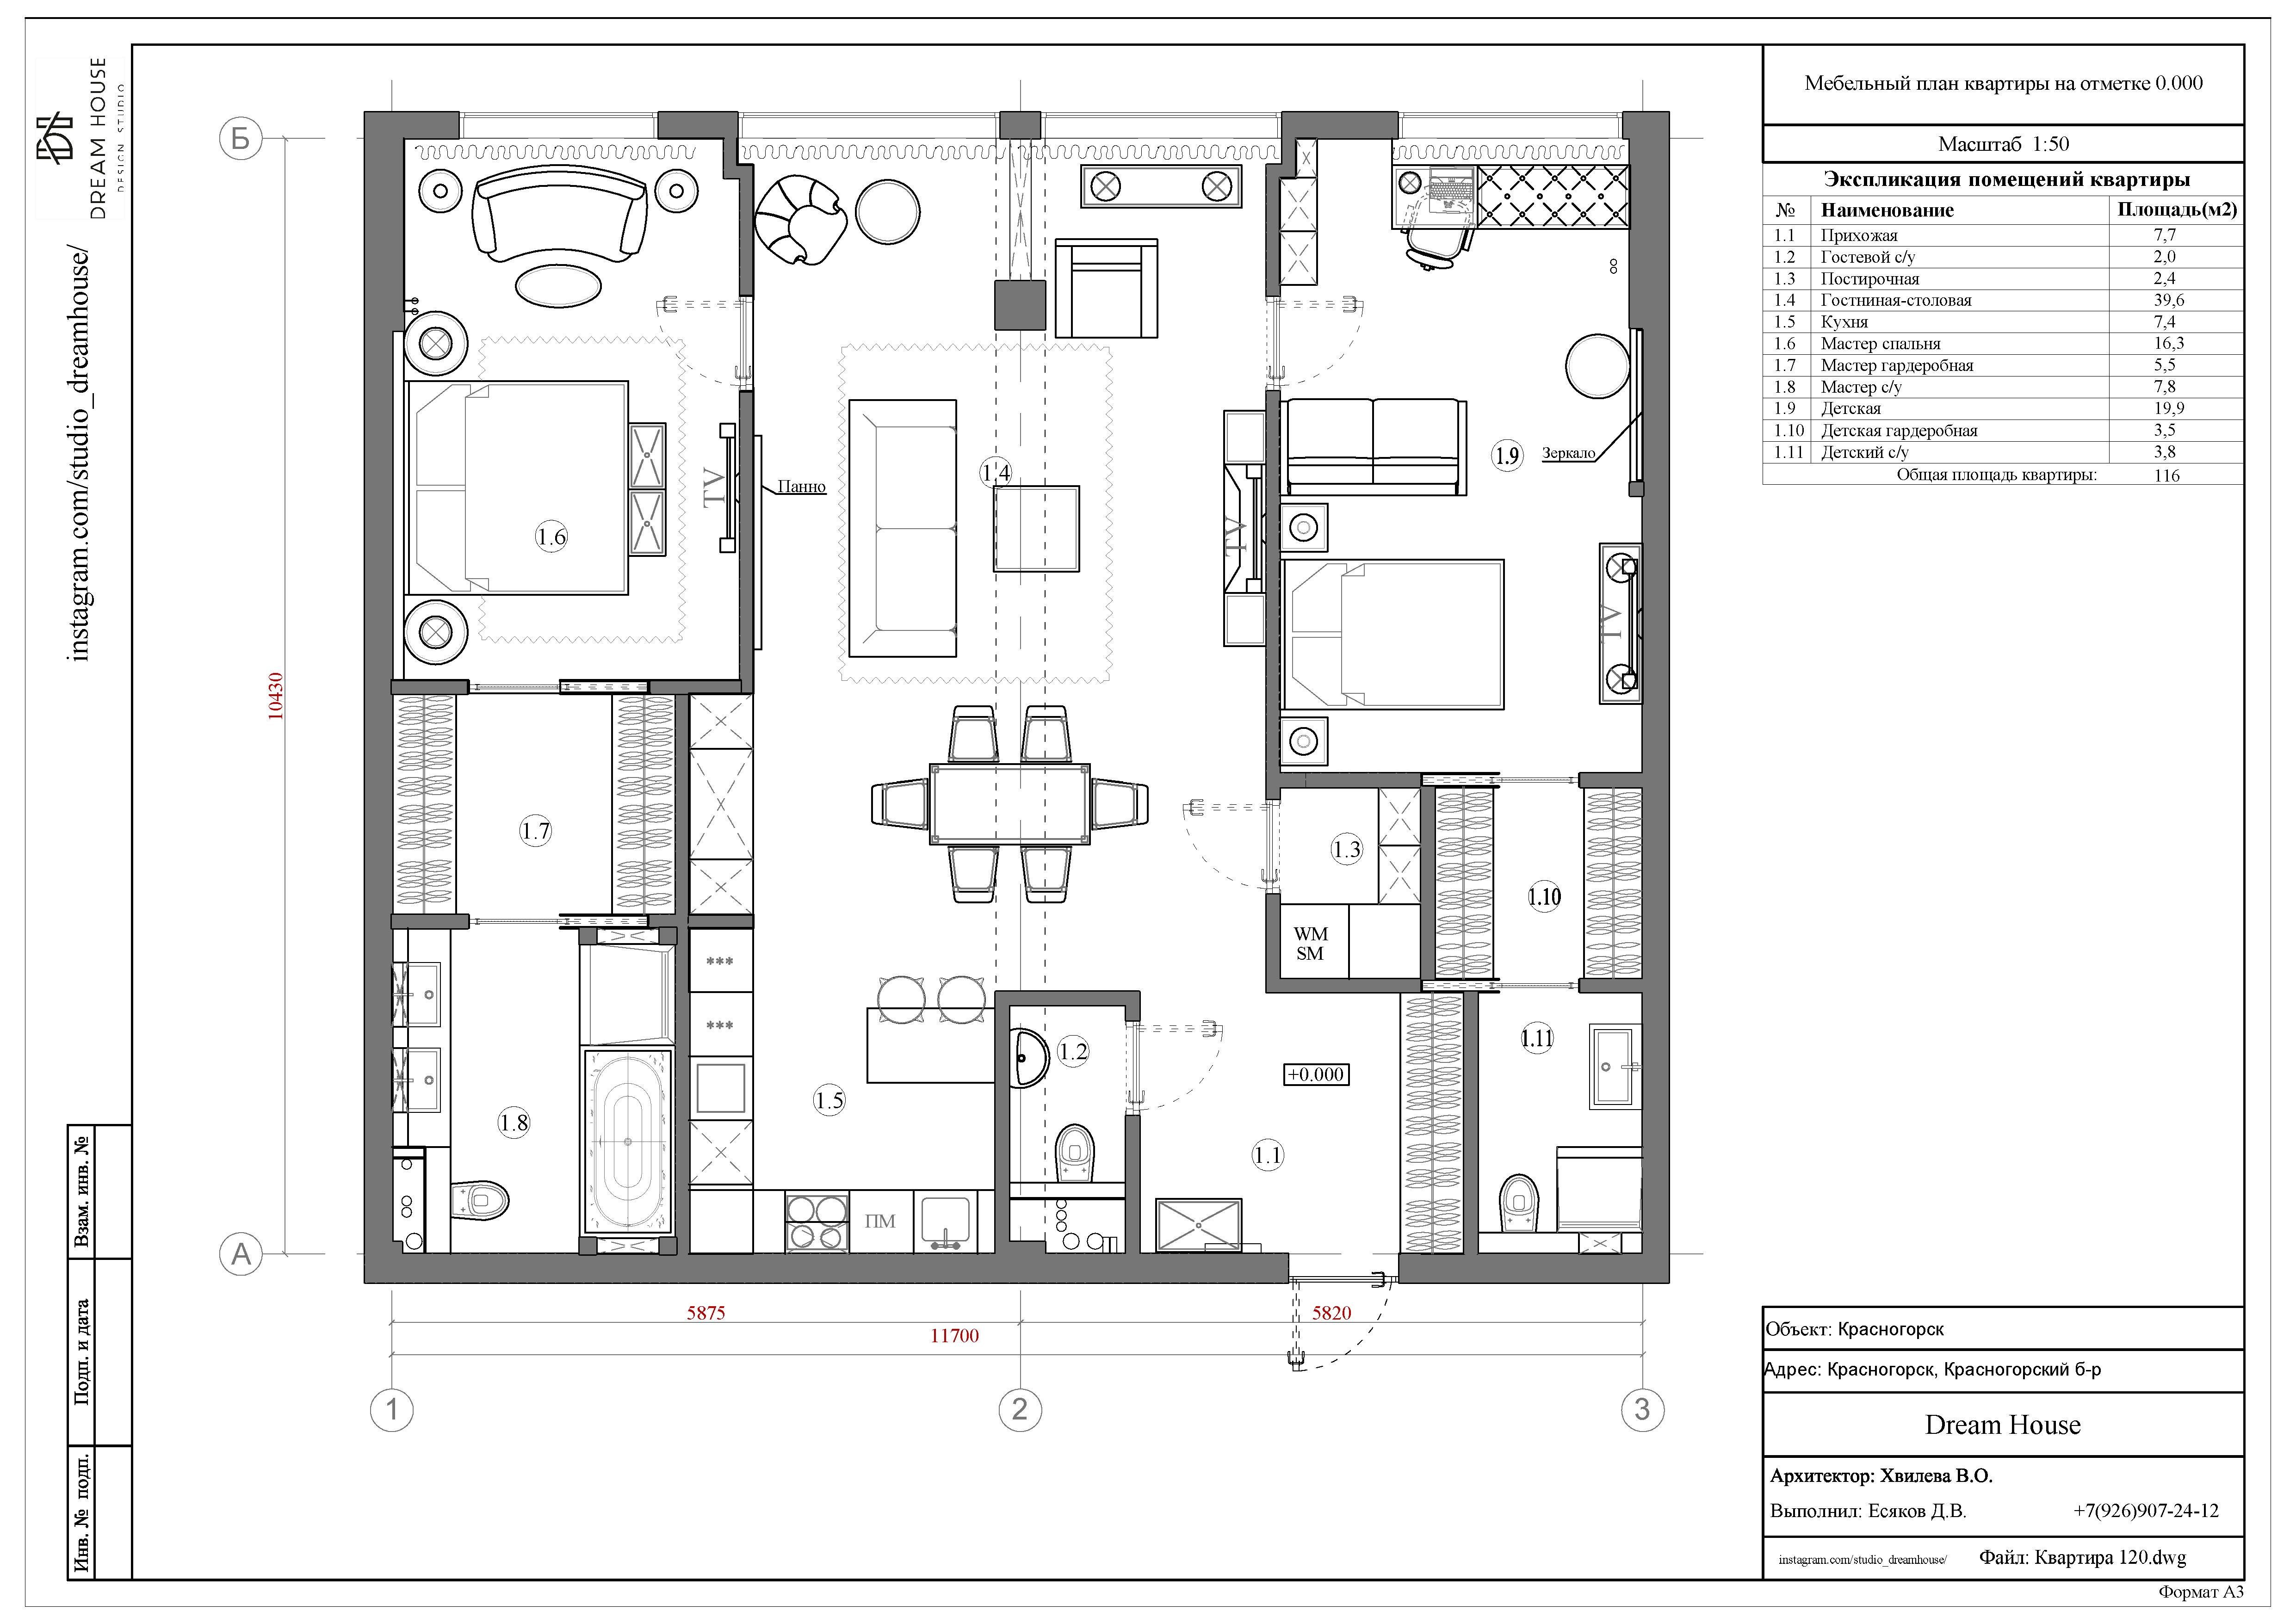bathroom: (390, 928, 676, 1256), (1477, 992, 1642, 1252)
bedroom: (390, 138, 741, 682)
children_room: (1279, 119, 1641, 774)
dining_room: (688, 688, 1267, 994)
hallway: (1138, 996, 1465, 1256)
kitchen: (691, 928, 998, 1254)
living_room: (736, 116, 1283, 692)
toilet: (1010, 1005, 1127, 1187)
utility_room: (1281, 790, 1423, 980)
walk_in_closet: (392, 697, 675, 916), (1435, 787, 1641, 980)
